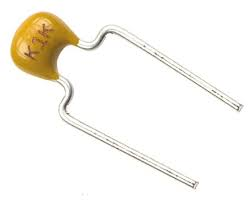ceramic capacitor: (6, 4, 98, 115)
